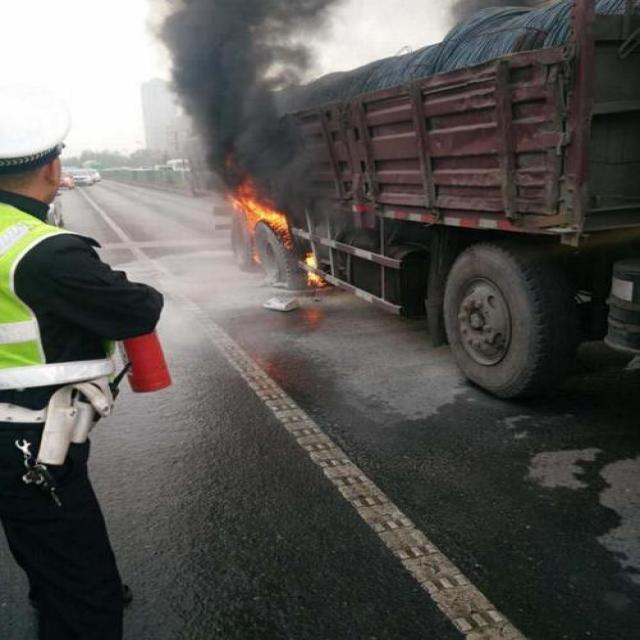Fire: (230, 191, 290, 248)
Smoke: (152, 0, 322, 192)
